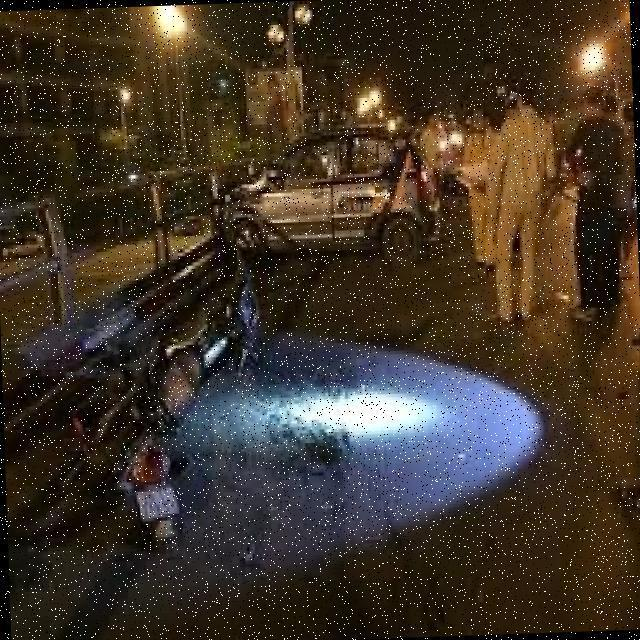accident: (47, 253, 272, 533), (189, 95, 456, 278)
